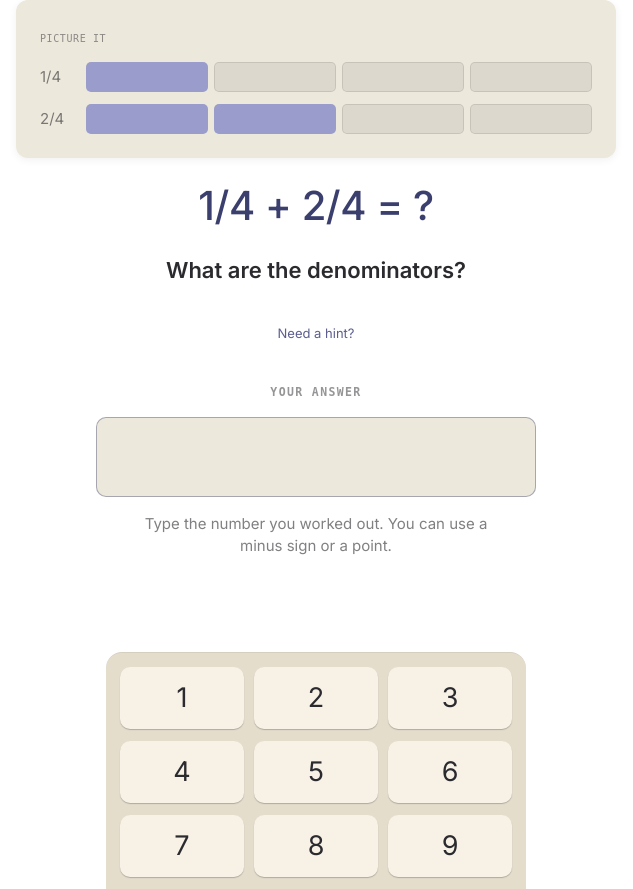
it: entering a number (D150) › deletes at the field, and only once there is something to delete
Click the button "2".
click(316, 698)  # box [254,667,378,729]
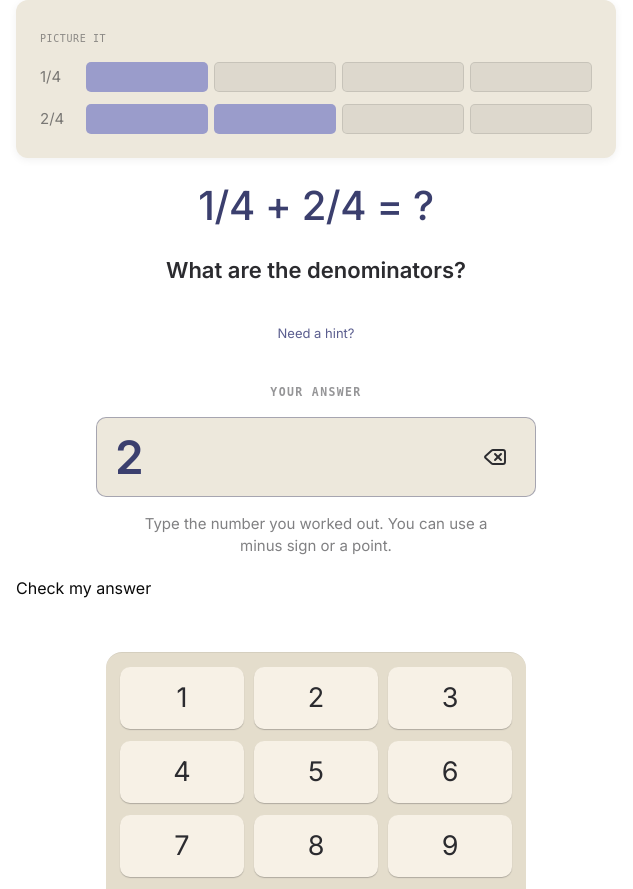
Click the button "5".
click(316, 772)  # box [254,741,378,803]
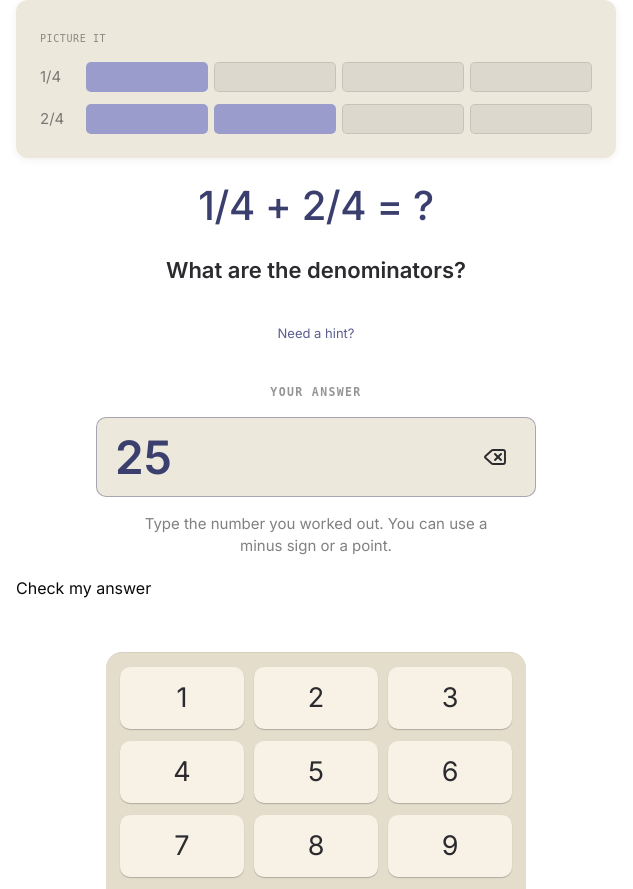
Click the button named "Delete".
click(495, 457)  # box [473,435,517,479]
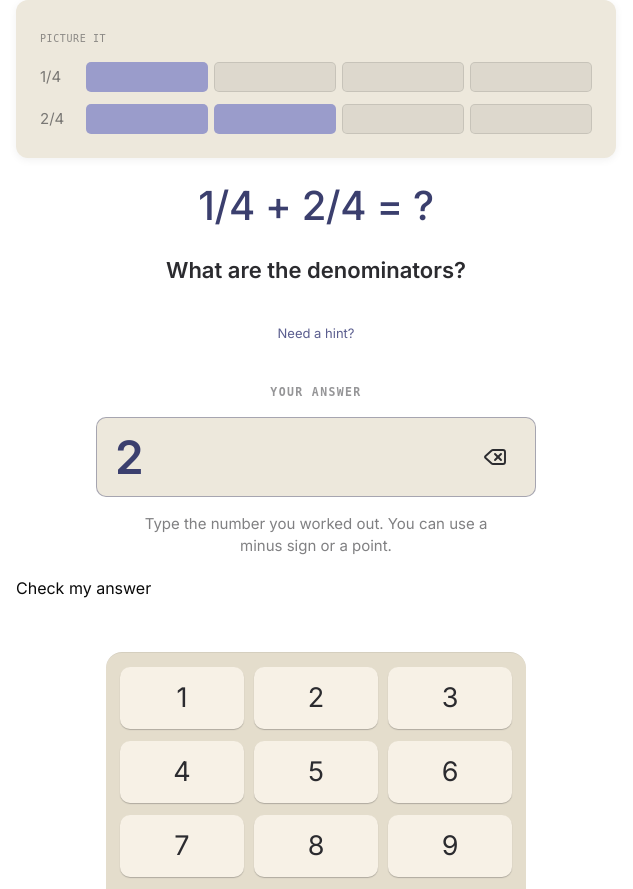
Expected: the field holds "2", [115,432,469,482]
